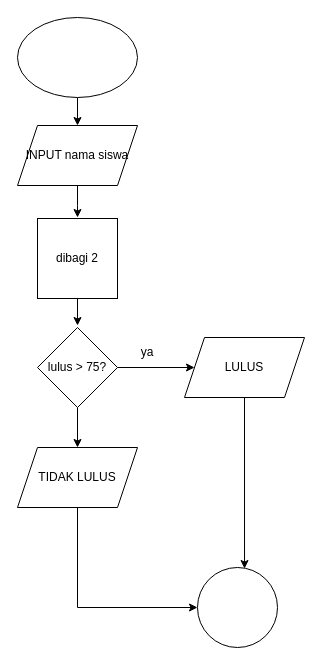
This 322x665 diagram has some shape labels left out. The shapes that lost their labels are listed below. From the top down, each one's box as (x1, y1, x2, y2) in pixels, then its label:
(16, 16, 138, 98): START
(196, 566, 278, 648): FINISH
